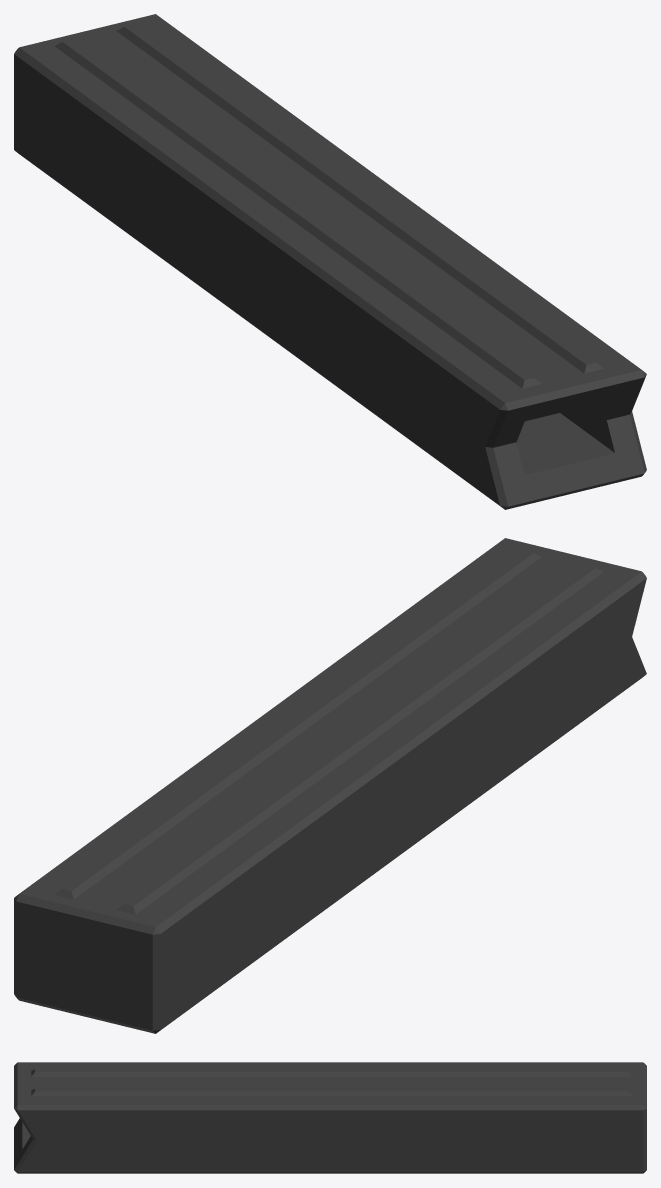
The model's file is SMGMag.glb.
3 views of the same model, one above another, from view 1: azimuth 30°, elevation 25°; view 2: azimuth 150°, elevation 25°; view 3: azimuth 270°, elevation 25° (orthographic). The views are drawn at different scales.
Visible parts, largest first — view 1: SMGMag; view 2: SMGMag; view 3: SMGMag.
Boxes of the visible parts, <box> form: SMGMag: <box>14,14,646,509</box>; SMGMag: <box>14,538,646,1033</box>; SMGMag: <box>14,1062,646,1173</box>.
Bounding box in the file's own units: 0.0339 × 0.0258 × 0.1964.
1 material, 1 textured.
